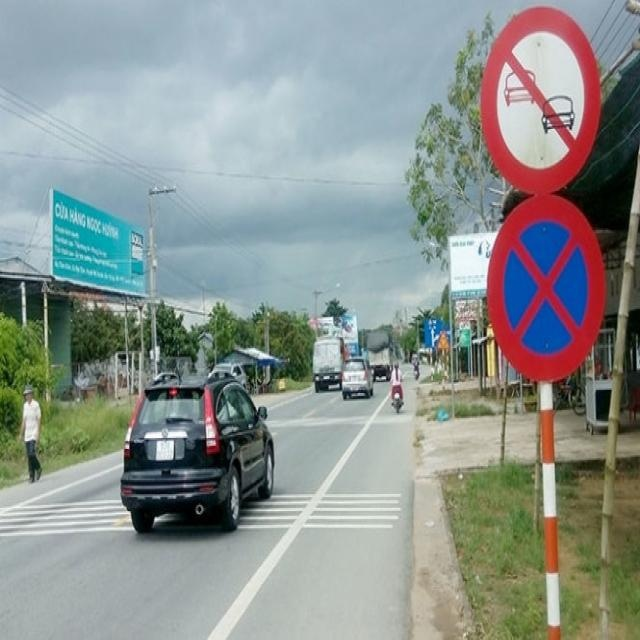bien_cam: (478, 195, 606, 383), (481, 6, 602, 196)
